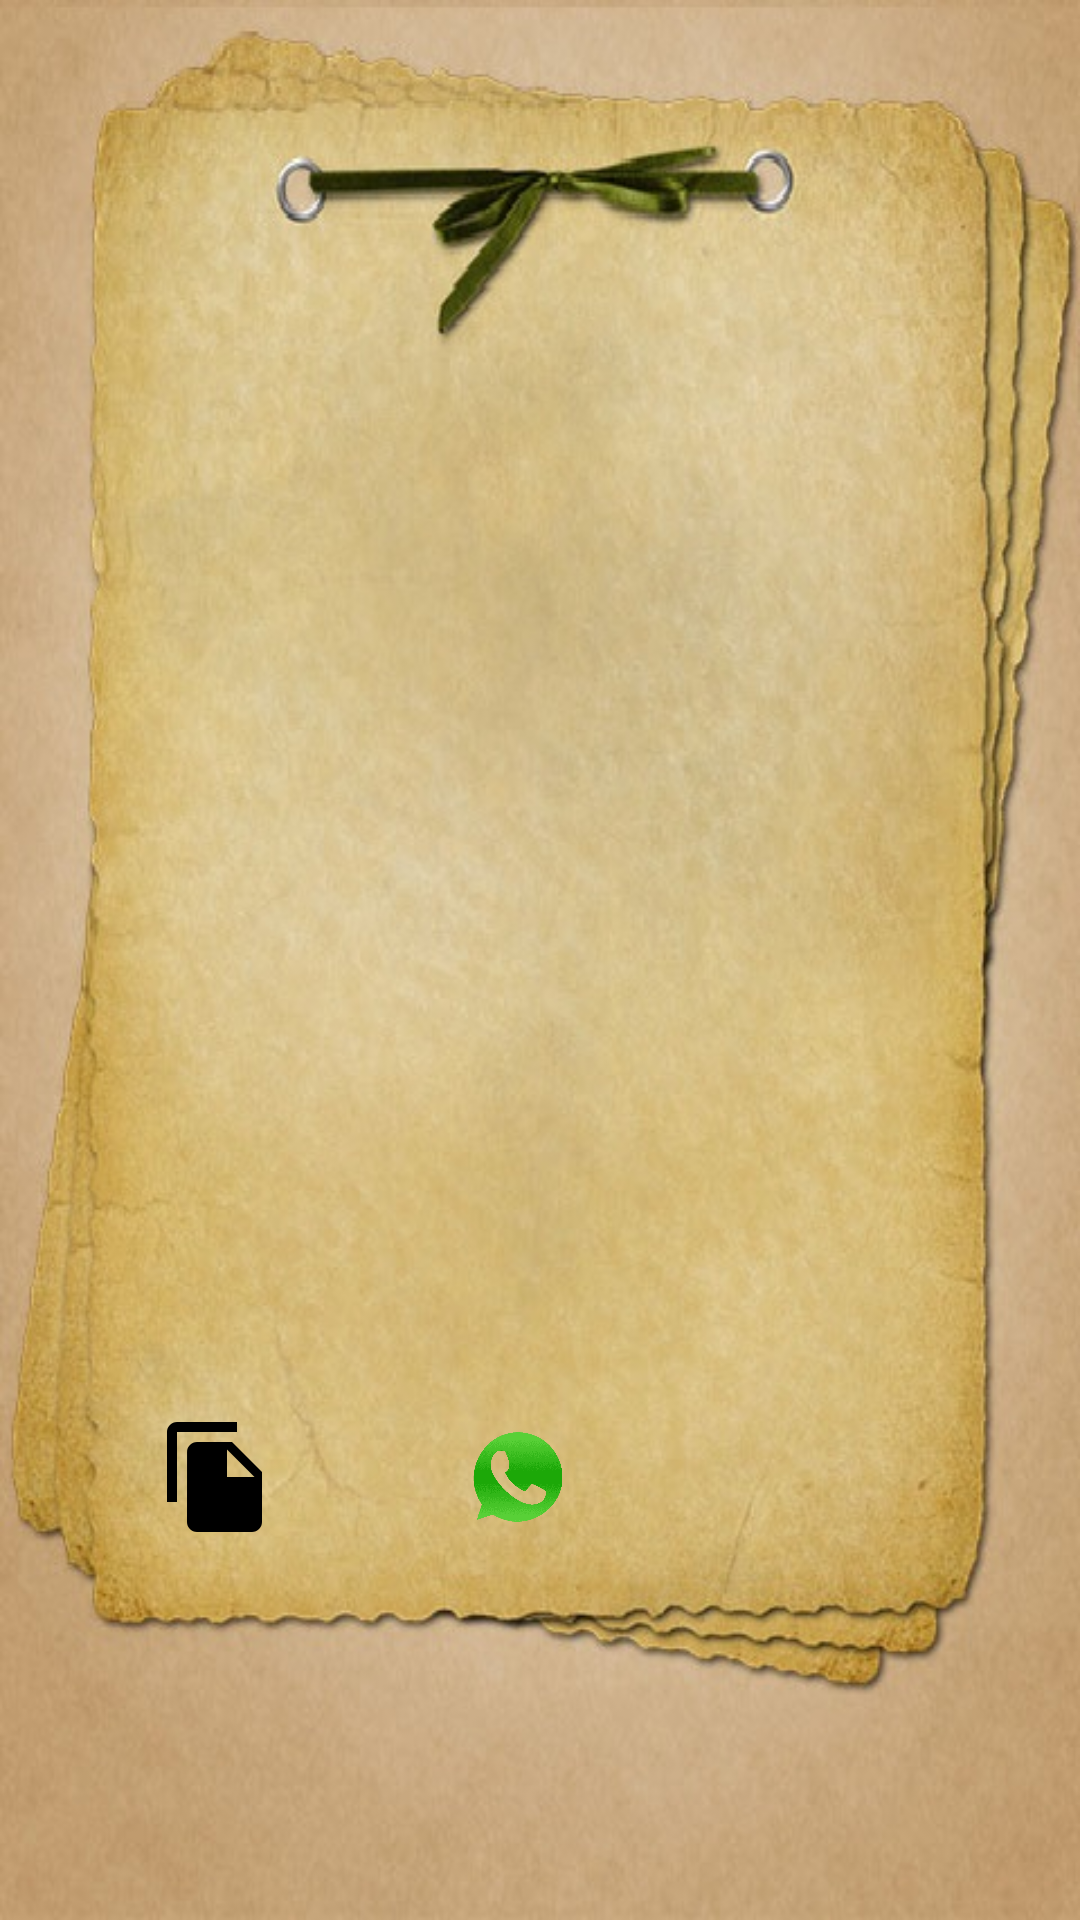

Icons on this 1080×1920 Android screen, each with the point to tap as [x,y]:
file: [210,1477]
